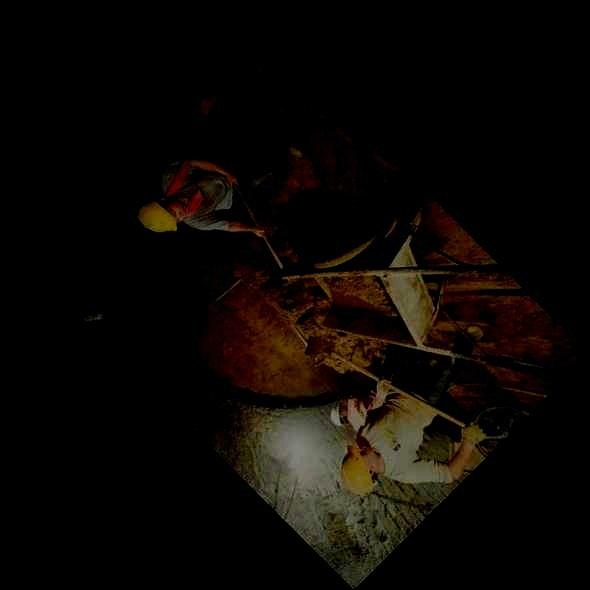helmet: (338, 438, 384, 498), (138, 195, 190, 233), (329, 397, 350, 427)
